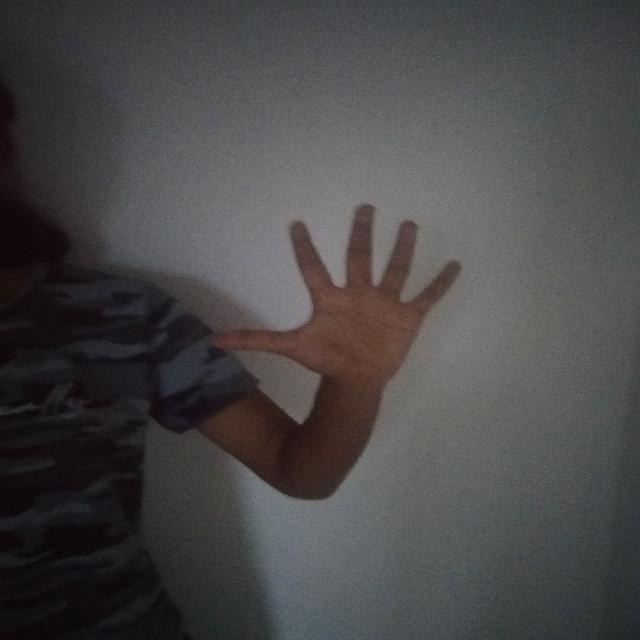Moutza: (204, 187, 468, 410)
